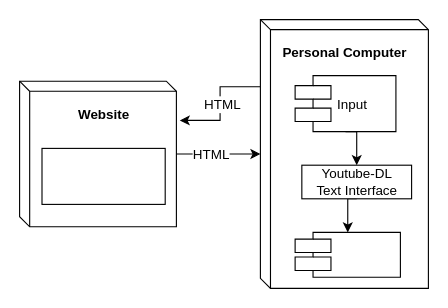
The diagram is 448 pixels wide and 308 high, and some of its shapes have lost their labels. Each missing label, with the box of its shape:
Storage: (294, 231, 400, 277)
Video API: (41, 147, 165, 204)
